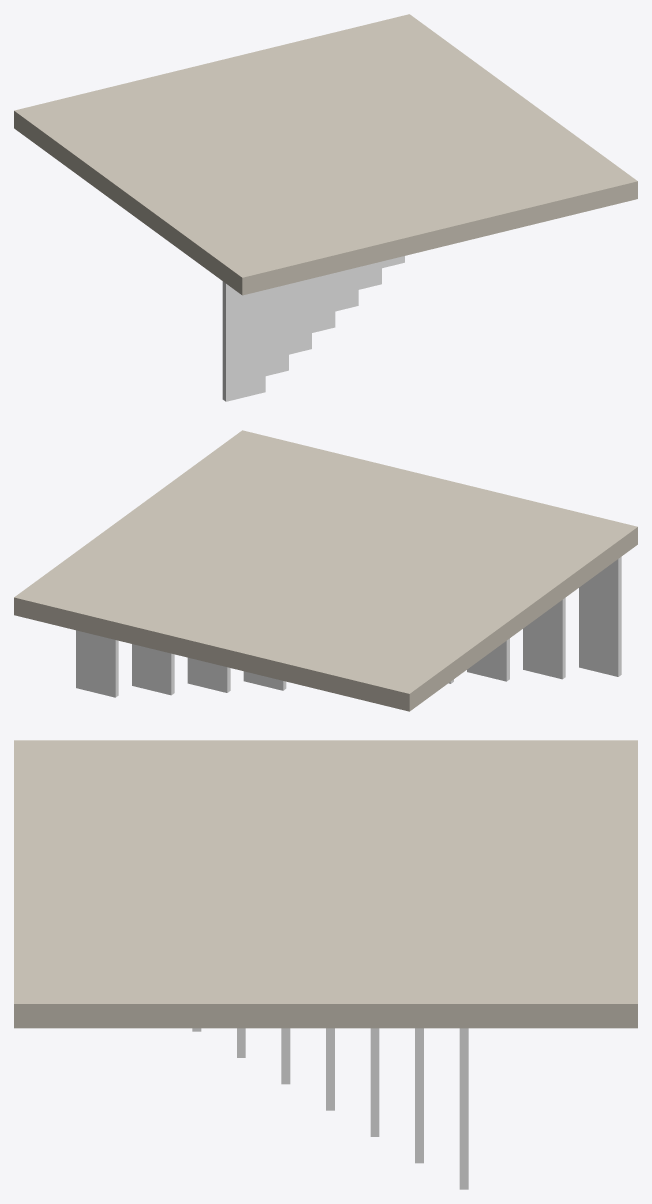
File: Stairs01.gltf
3 views of the same model, one above another, from view 1: azimuth 30°, elevation 25°; view 2: azimuth 150°, elevation 25°; view 3: azimuth 270°, elevation 25° (orthographic). The views are drawn at different scales.
Parts seen in each view (by area): view 1: SIP, Staircase (×6); view 2: SIP, Staircase (×7); view 3: SIP, Staircase (×4).
Boxes of the visible parts, x1,y1,x2,y2 form: SIP: (14, 14, 637, 295); Staircase (×6): (222, 261, 381, 401); SIP: (14, 430, 637, 711); Staircase (×7): (76, 557, 621, 697); SIP: (14, 740, 637, 1028); Staircase (×4): (326, 1028, 468, 1189).
Bounding box in the file's own units: 3.5 × 1.15 × 3.5.
